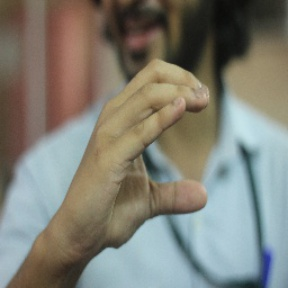C: (97, 57, 218, 229)
